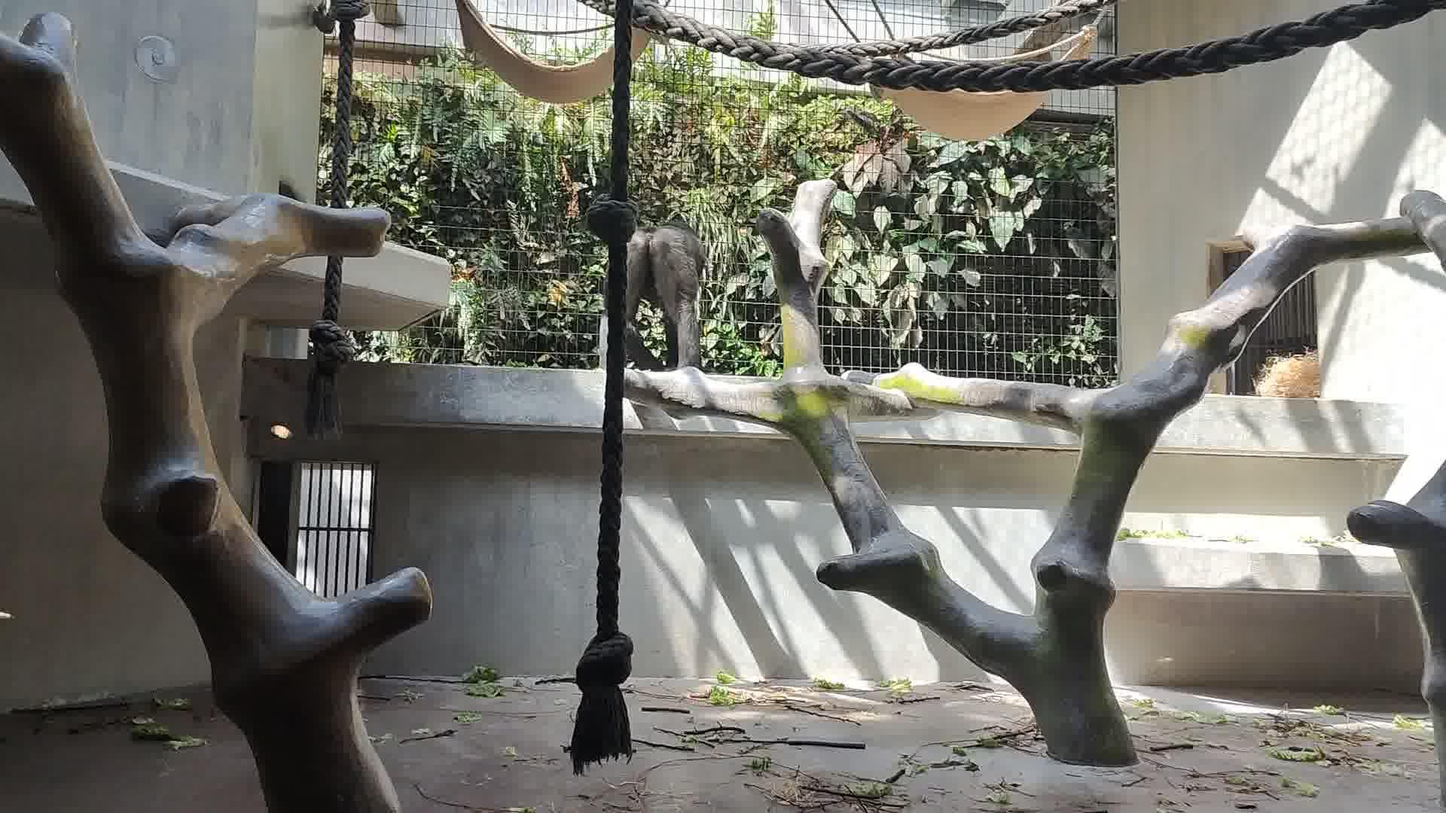boar: (599, 221, 705, 372)
